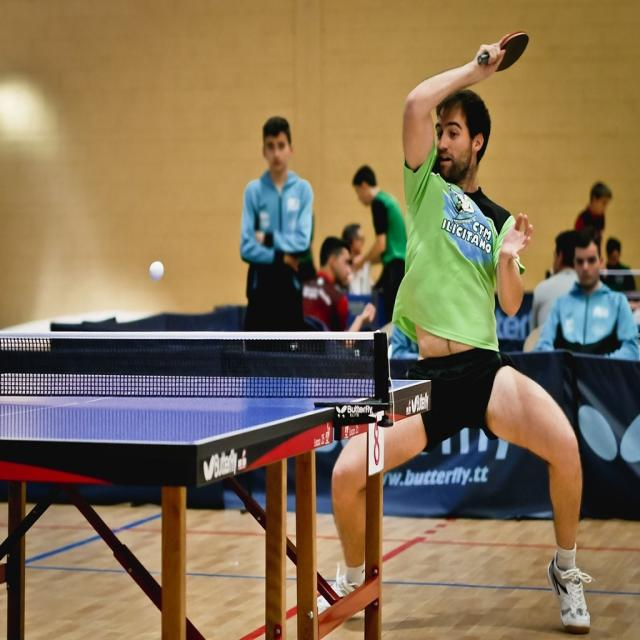TT Net: (0, 327, 386, 402), (596, 272, 640, 301)
TT Racket: (468, 21, 542, 83)
TT Table: (0, 376, 423, 445)
